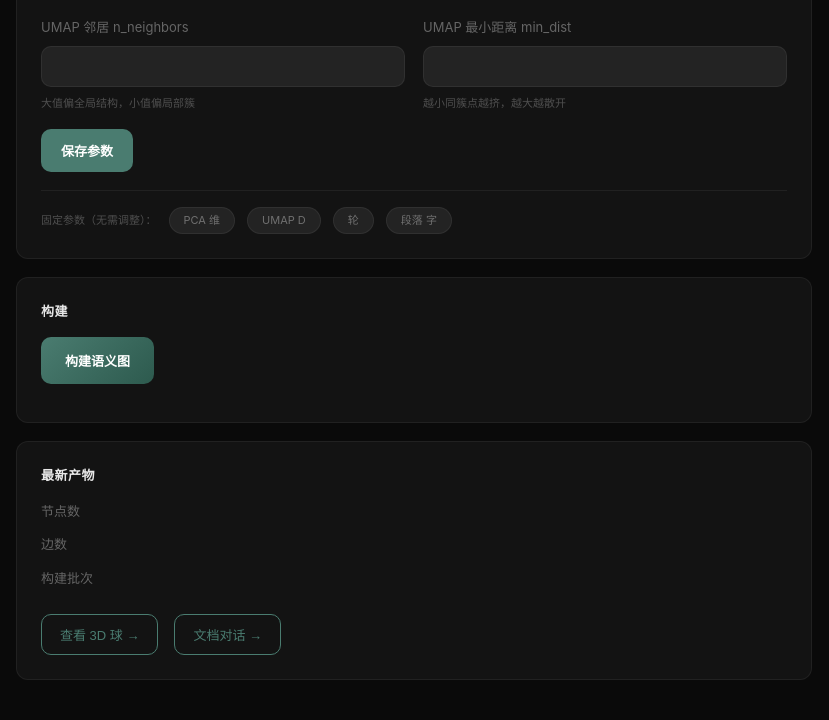
Test: SgView › 开始构建：POST build 后轮询状态到 building 显示进度
The image size is (829, 720).
(page scrolled)
Click the button "构建语义图" at (98, 360), box left=41, top=337, right=154, bottom=384
Wait 2000 ms
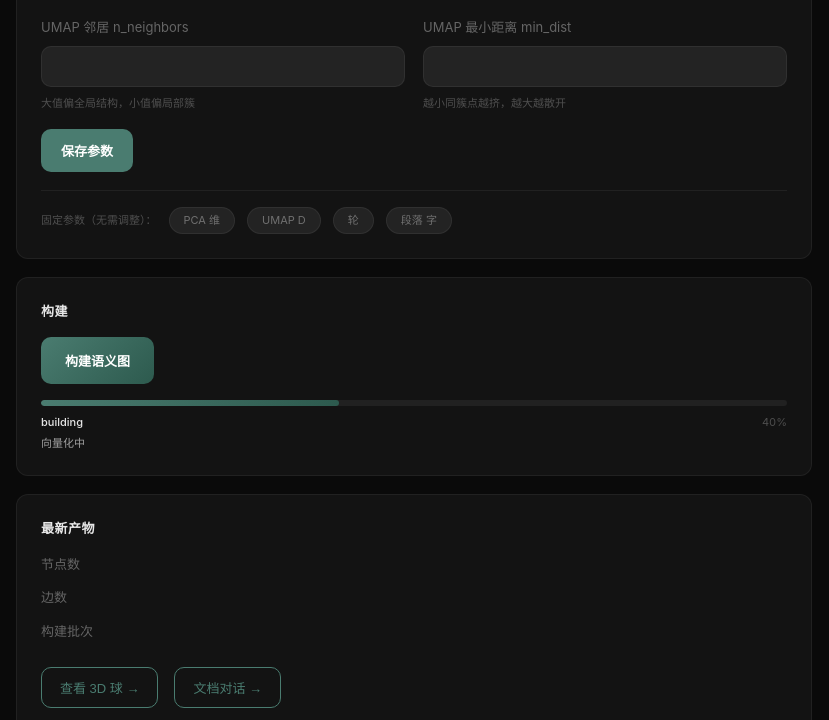
Result: the text "向量化中" is shown at left=41, top=436, right=85, bottom=450
